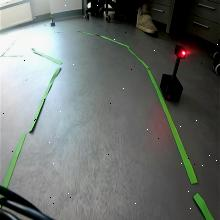red: (174, 45, 187, 59)
